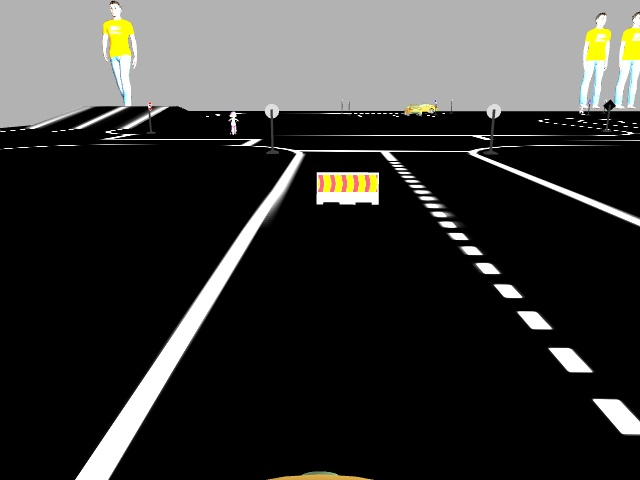ClosedRoadStand: (317, 173, 377, 202)
